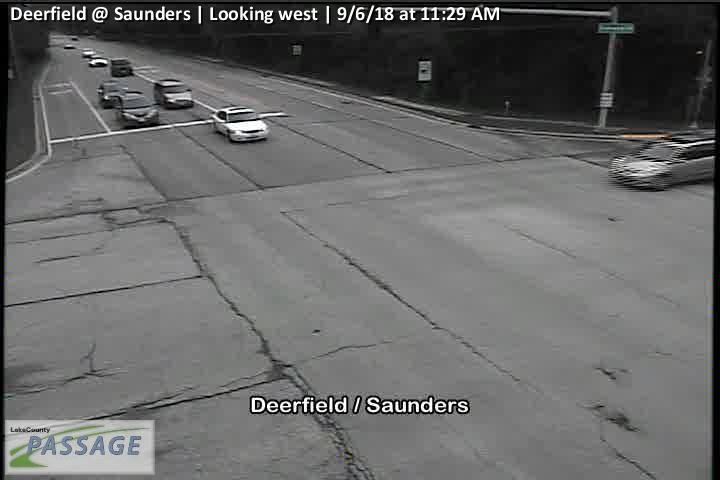SUV: (609, 131, 717, 190), (118, 92, 159, 128), (154, 79, 194, 109), (112, 57, 133, 77)
Sedan: (212, 105, 267, 143), (103, 83, 128, 108), (98, 78, 118, 100)
